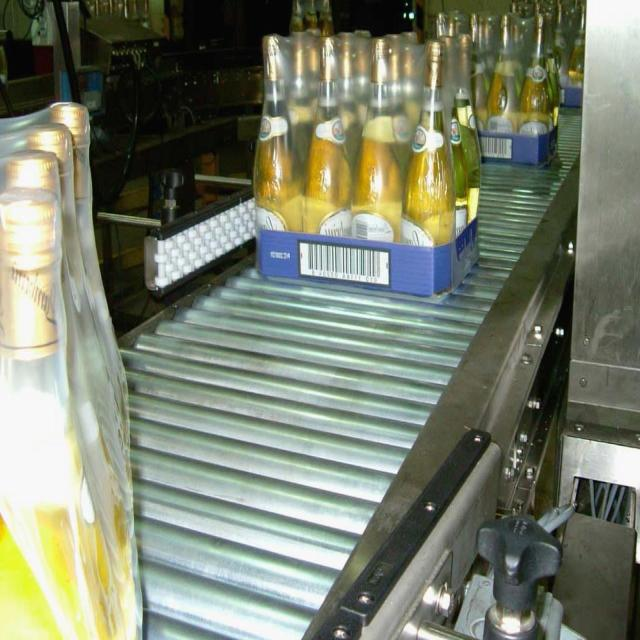bottle: (0, 120, 143, 640), (27, 95, 145, 640), (0, 153, 125, 640), (1, 183, 117, 638), (251, 33, 304, 268), (399, 38, 457, 248), (350, 36, 404, 244), (301, 34, 353, 239), (448, 37, 488, 253)
